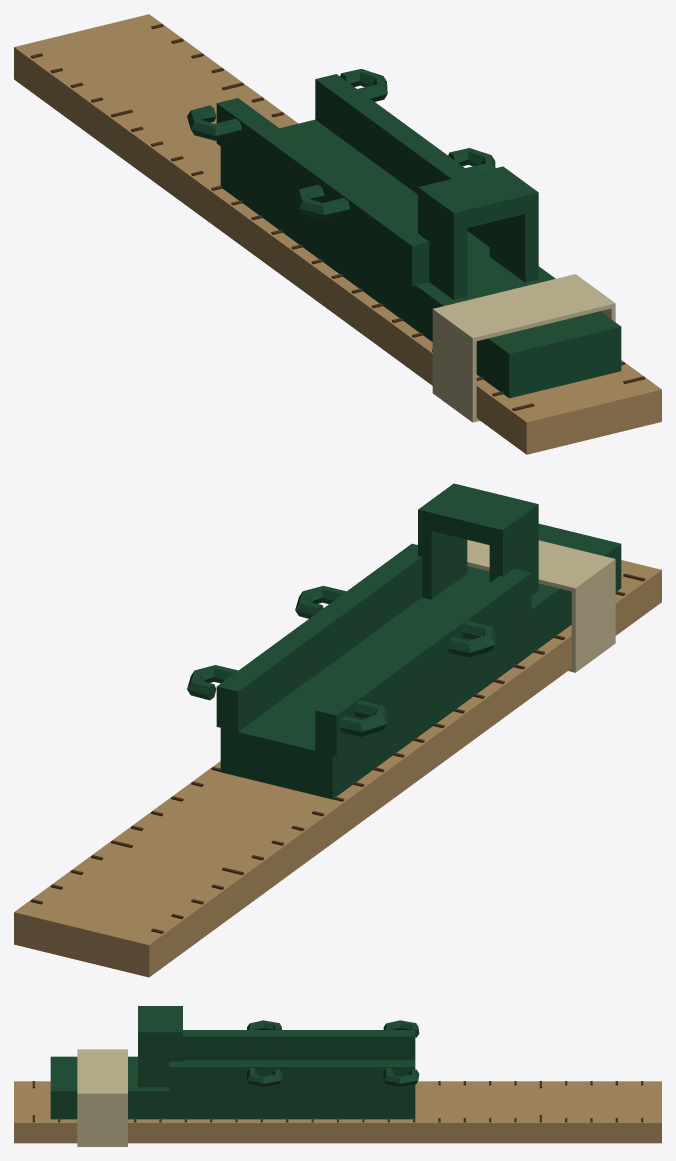
The model's file is body.fbx.
3 views of the same model, one above another, from view 1: azimuth 30°, elevation 25°; view 2: azimuth 150°, elevation 25°; view 3: azimuth 270°, elevation 25° (orthographic). The views are drawn at different scales.
Visible parts, largest first — view 1: body; view 2: body; view 3: body.
Part boxes in pixels (x1,y1,x2,y2): body: (14, 14, 661, 454); body: (14, 483, 661, 977); body: (14, 1006, 661, 1146).
Bounding box in the file's own units: 1.02 × 0.828 × 4.6.
